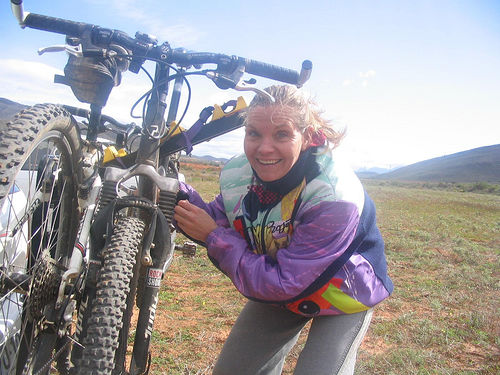without_mask: (244, 104, 313, 181)
